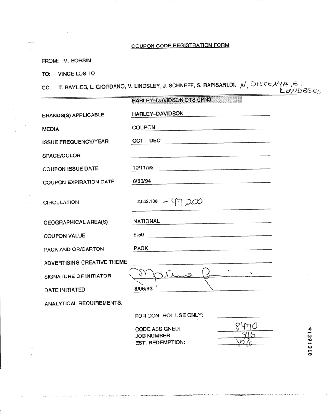textline: (131, 177, 271, 185), (132, 204, 272, 212), (132, 231, 272, 239), (132, 245, 272, 253), (133, 285, 273, 293), (131, 111, 270, 119), (131, 124, 270, 132), (131, 137, 270, 145), (131, 164, 270, 172), (133, 258, 272, 266), (133, 271, 272, 279), (132, 218, 272, 225), (131, 151, 270, 158), (217, 312, 274, 319), (217, 339, 274, 346), (217, 326, 274, 332), (217, 333, 274, 339)
